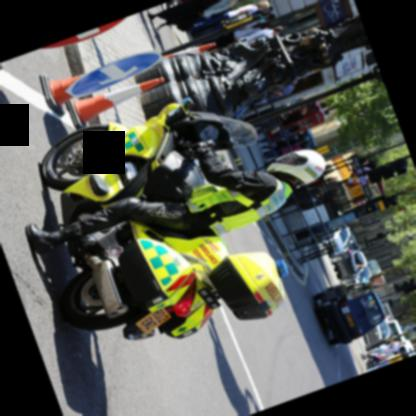handbag: (174, 12, 200, 30)
